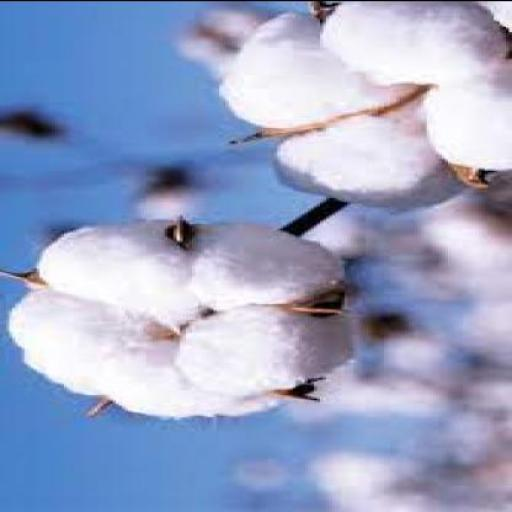cotton_ready: (12, 212, 370, 428), (220, 4, 509, 210)
